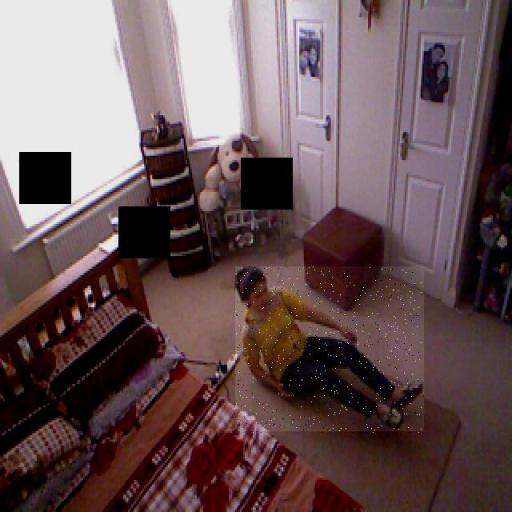Fall: (235, 267, 424, 434)
